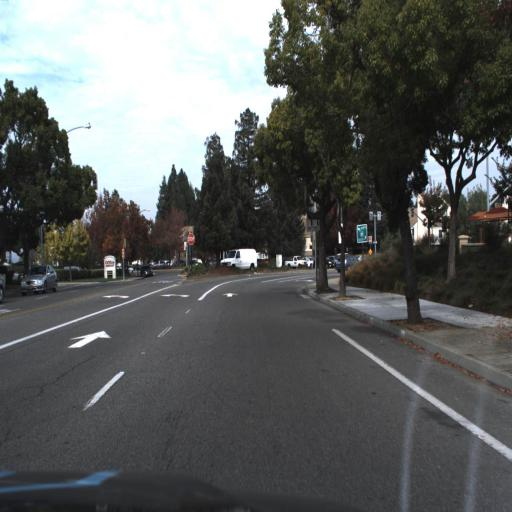car: (219, 241, 263, 278), (20, 261, 58, 299), (331, 248, 360, 276), (332, 250, 361, 278), (138, 259, 155, 279)
